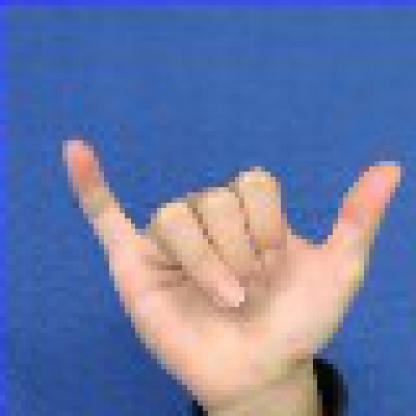six: (47, 125, 411, 411)
